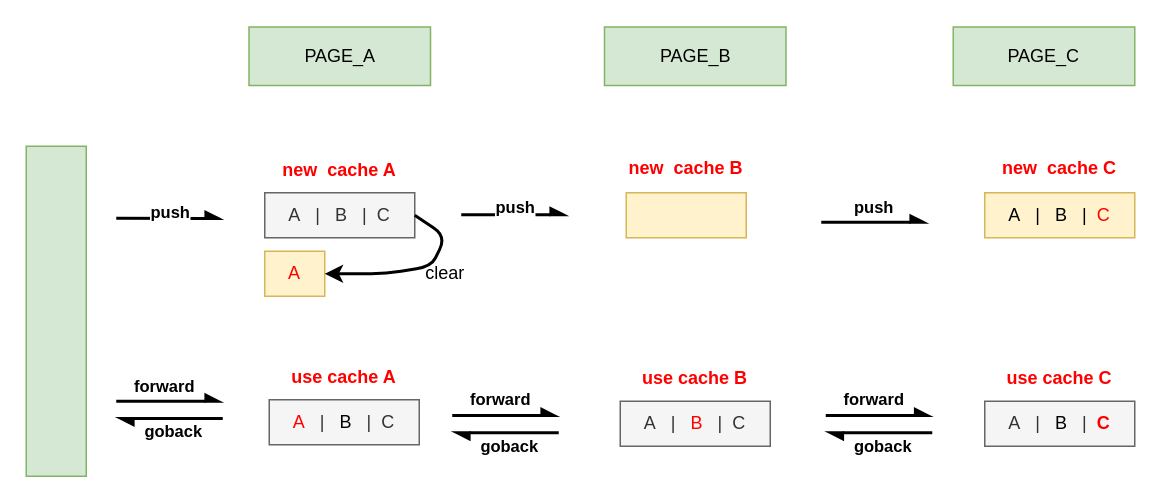
Image size: 1161x503. Some labels were removed from this diagram. Here are the shapes that lost their labels. From the top down, the centre of each, then its label:
(685,214): A | B
(55,310): Home
